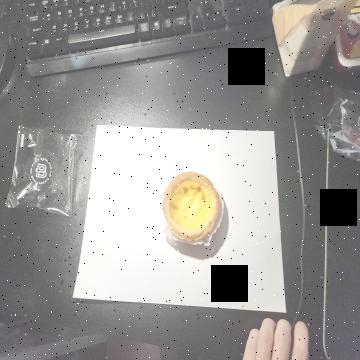EggTart: (161, 171, 221, 242)
